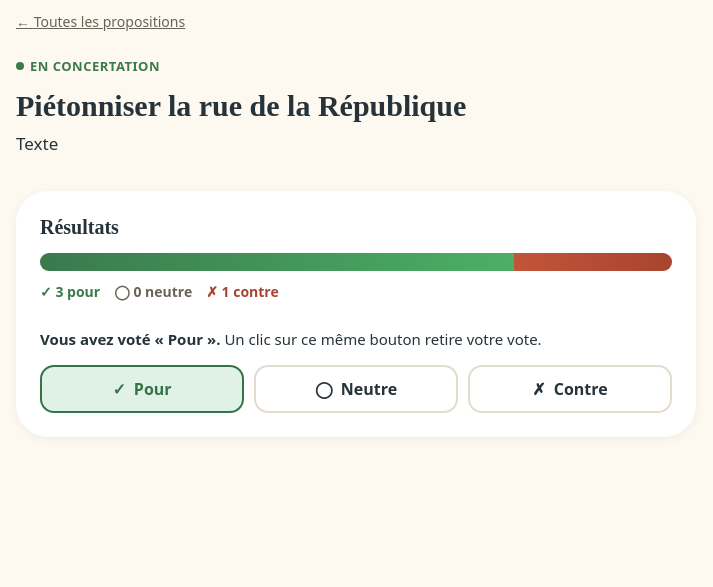
Test case: PropositionDetail › changer un vote déjà enregistré › « Non » : aucun appel à l'API, le vote reste « Pour »
Click the button "✗ Contre": (570, 390) x1=468 y1=366 x2=672 y2=414
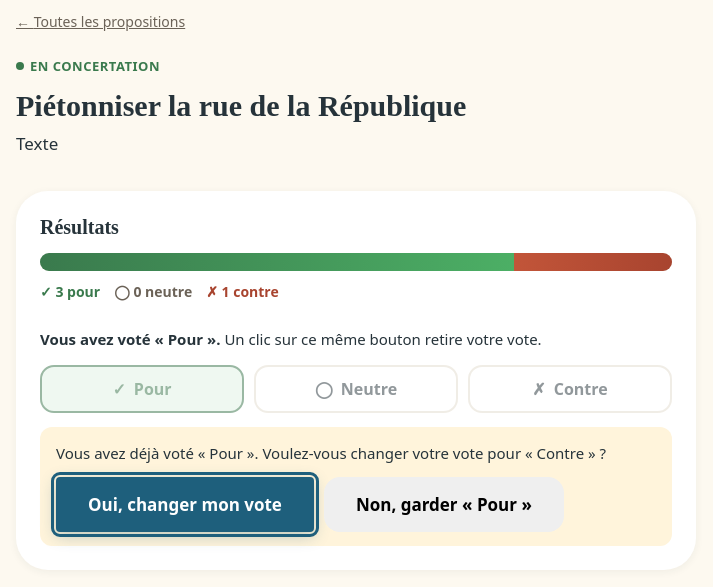
Result: the text "Voulez-vous changer votre vote pour « Contre »" is shown at x1=56 y1=442 x2=656 y2=466
Result: the button "✗ Contre" is disabled at x1=468 y1=366 x2=672 y2=414
Click the button "Non, garder « Pour »": (444, 505) x1=324 y1=478 x2=564 y2=532
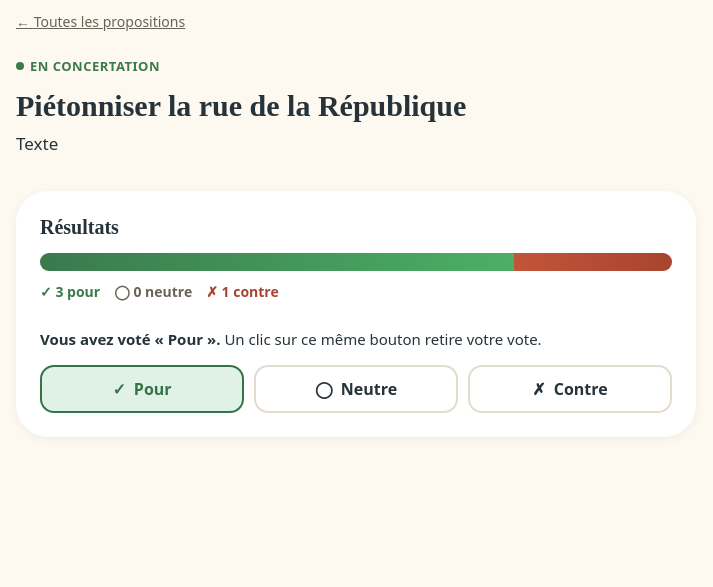
Result: the text "Voulez-vous changer votre vote" is gone
